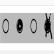correct: (16, 18, 24, 34)
no answer: (2, 16, 10, 38), (30, 16, 38, 36)
not correct: (44, 12, 53, 41)
